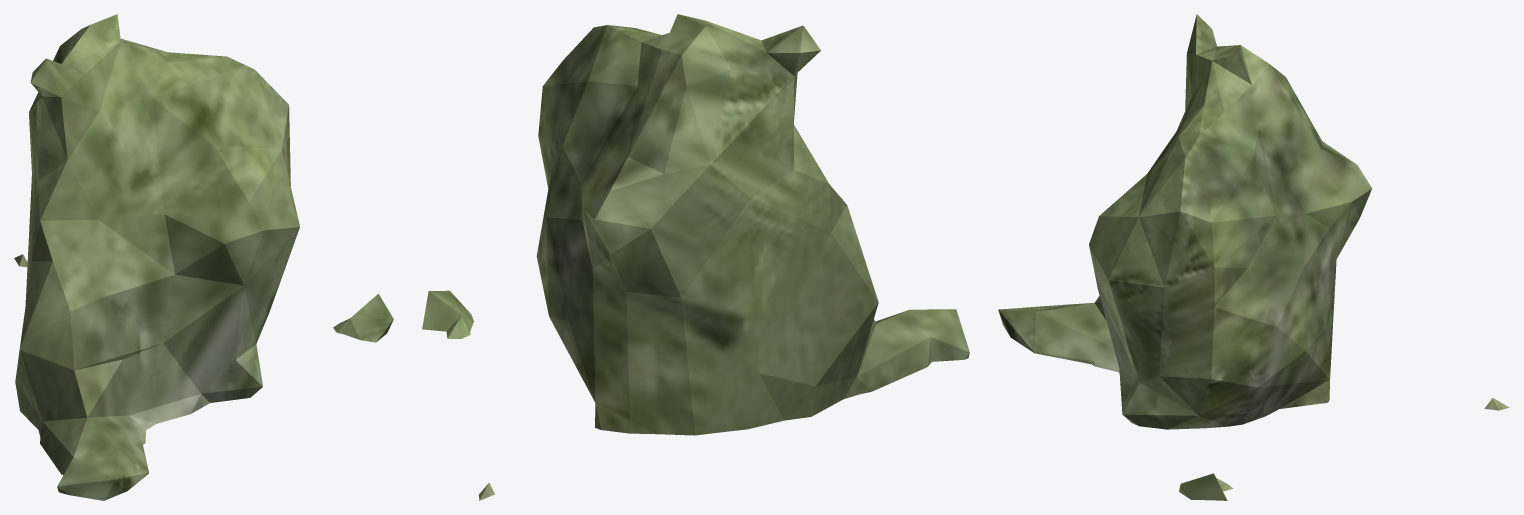
3 renders of one model, left to right at view 1: azimuth 30°, elevation 25°; view 2: azimuth 150°, elevation 25°; view 3: azimuth 270°, elevation 25°, orthographic. The views are drawn at different scales.
Bounding box in the file's own units: 1.18 × 0.9817 × 1.35.
Materials: 1 (1 with a texture image).
